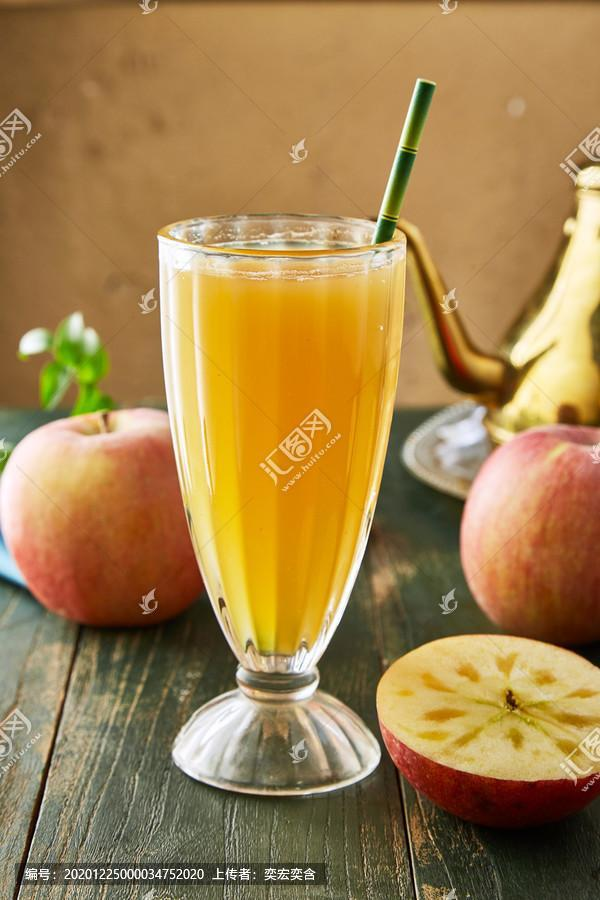apple: (1, 396, 210, 619), (457, 423, 600, 643)
